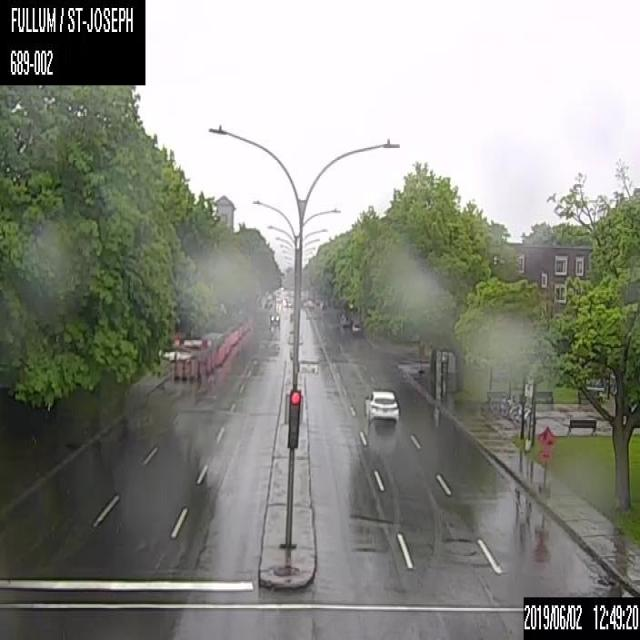construction: (536, 424, 554, 492), (188, 359, 195, 380), (180, 360, 187, 380), (196, 359, 202, 378), (173, 359, 178, 380), (204, 357, 210, 374)
vehicle: (363, 387, 398, 424), (267, 309, 280, 324), (350, 319, 363, 333), (281, 297, 291, 307)
